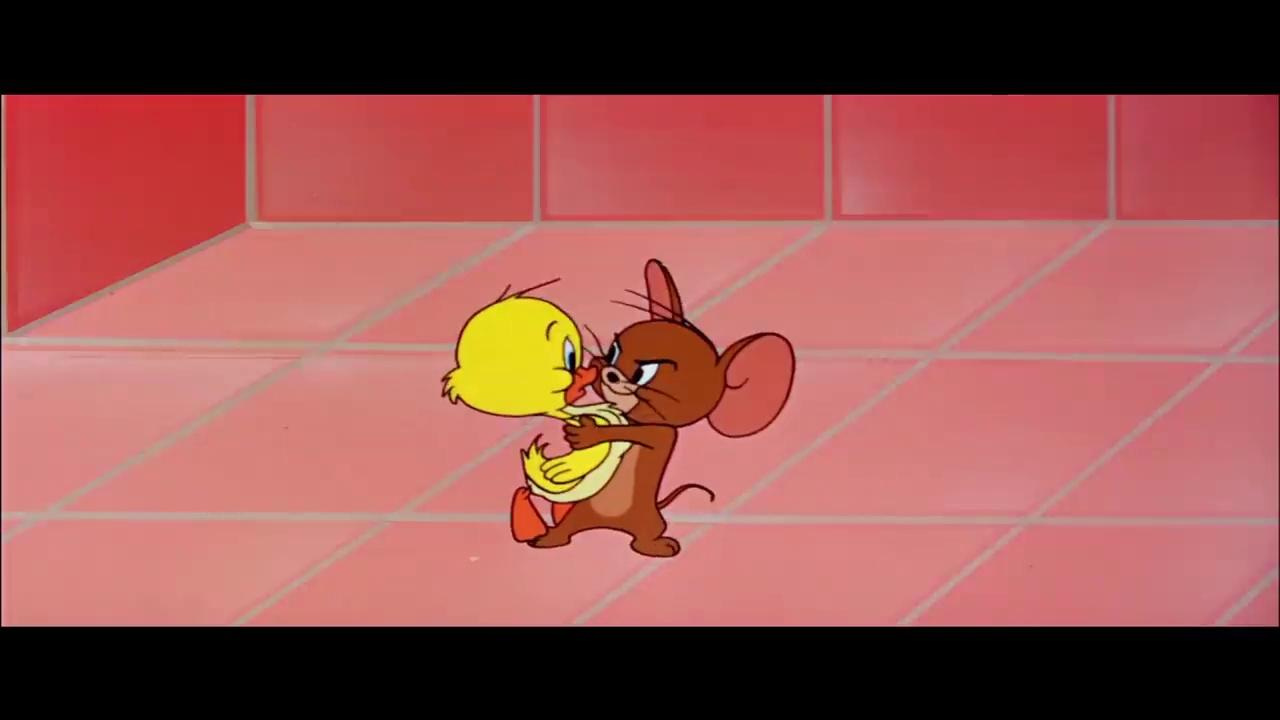Jerry: (526, 256, 797, 559)
